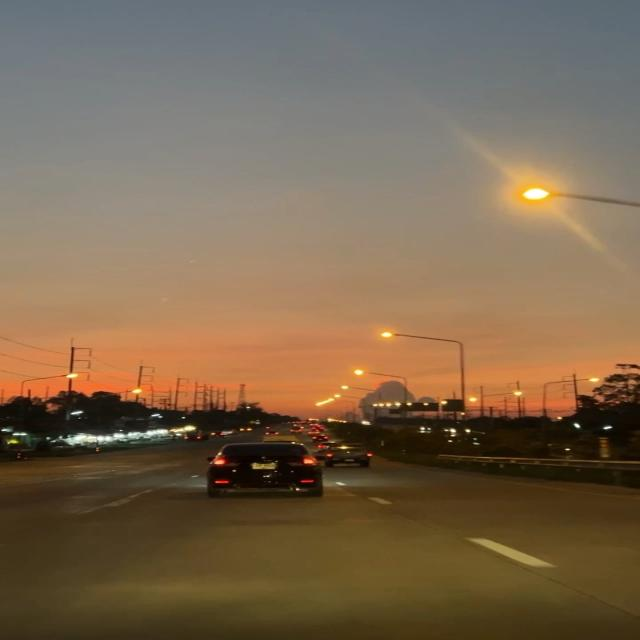Poth-hole: (42, 475, 618, 633)
